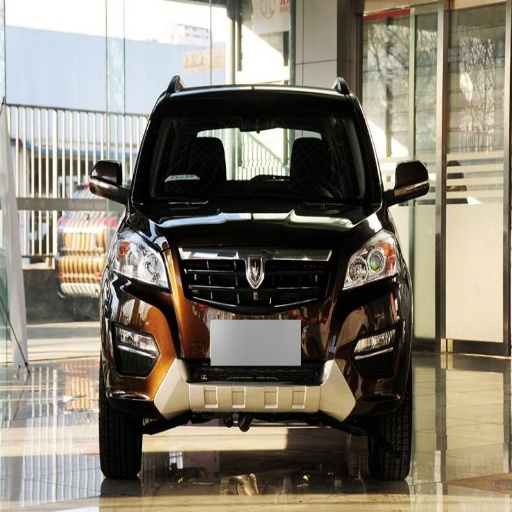front_bumper: (104, 228, 400, 427)
front_right_light: (111, 225, 170, 291)
hood: (134, 186, 381, 246)
left_mirror: (385, 161, 429, 205)
